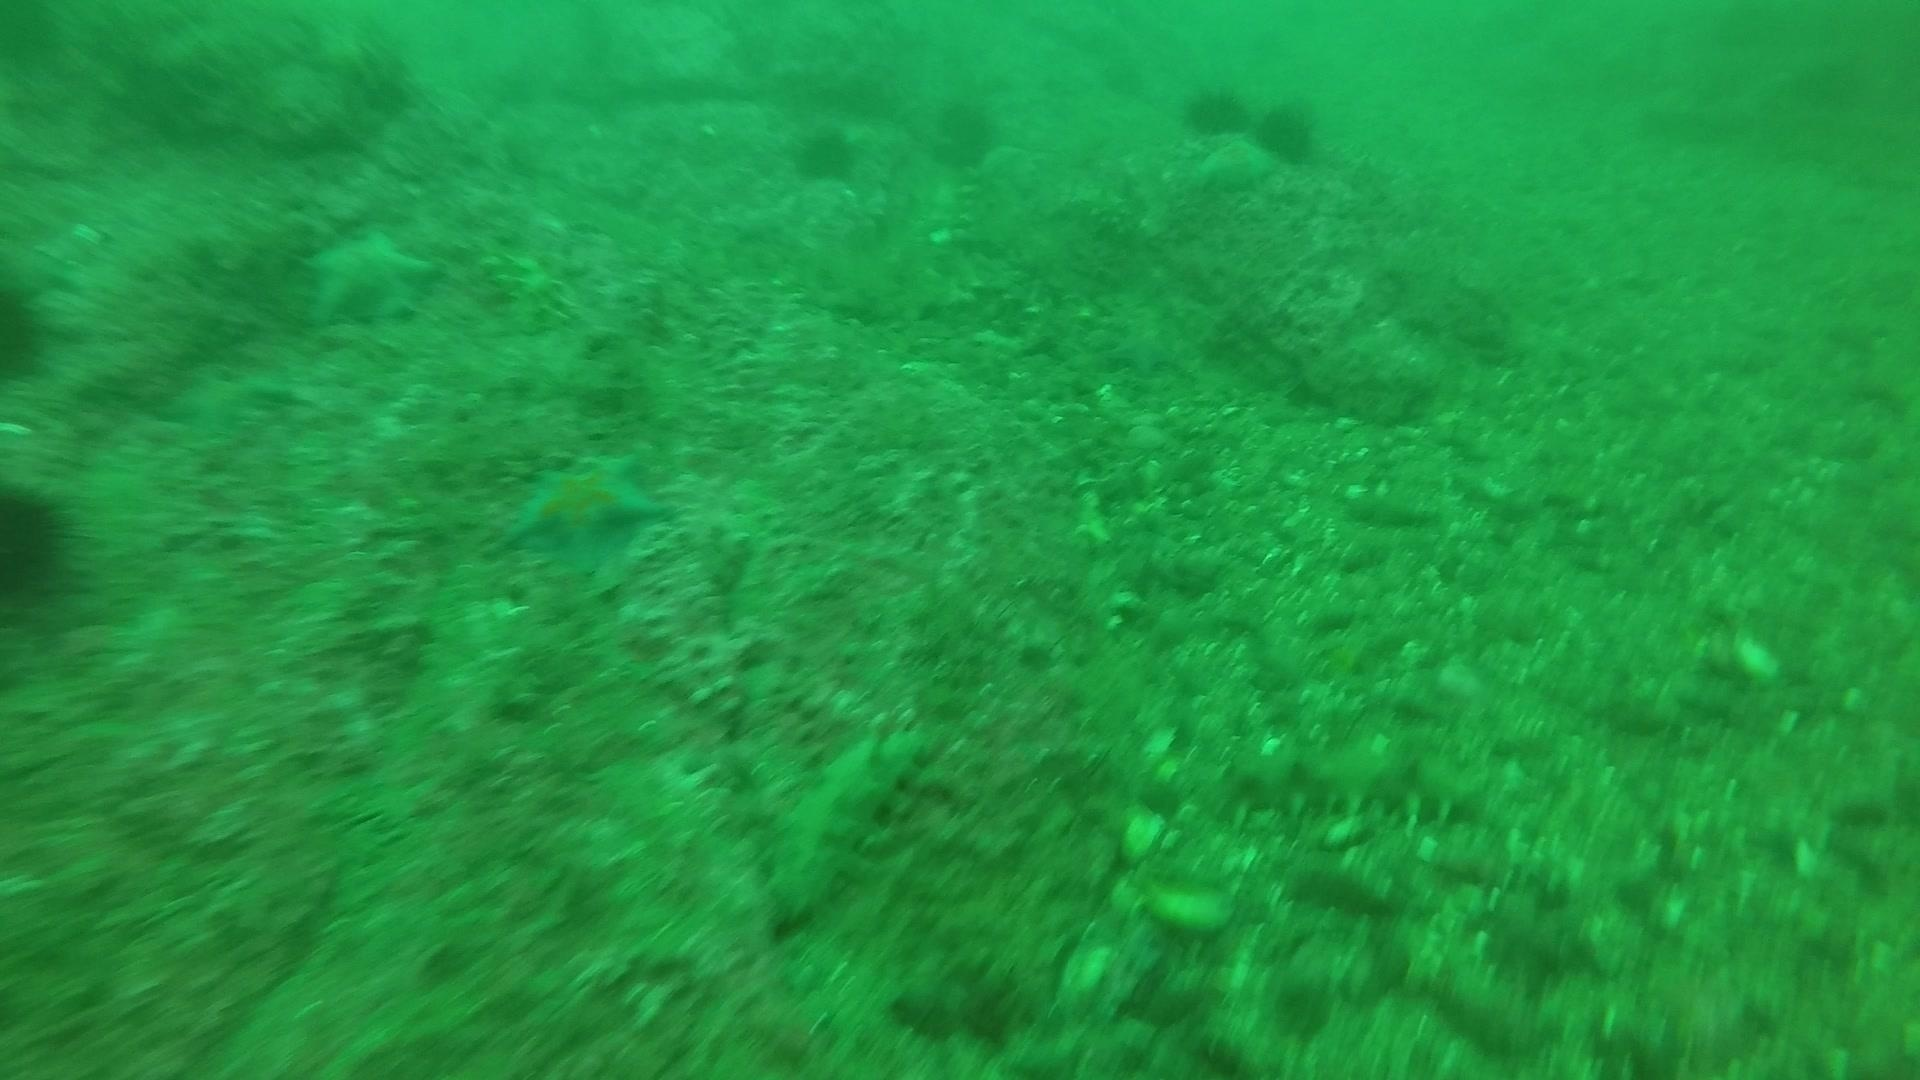echinus: (1, 475, 80, 607), (1, 272, 55, 389), (928, 92, 1004, 171), (787, 119, 864, 189), (1251, 96, 1324, 167), (1179, 79, 1250, 140)
holothurian: (757, 720, 931, 928), (624, 738, 798, 947), (1221, 728, 1494, 833), (481, 241, 575, 328), (928, 164, 1004, 251), (1068, 177, 1142, 264)
starfish: (498, 444, 675, 584), (294, 218, 444, 331), (152, 356, 298, 440), (1185, 129, 1280, 196), (1097, 316, 1187, 378)
